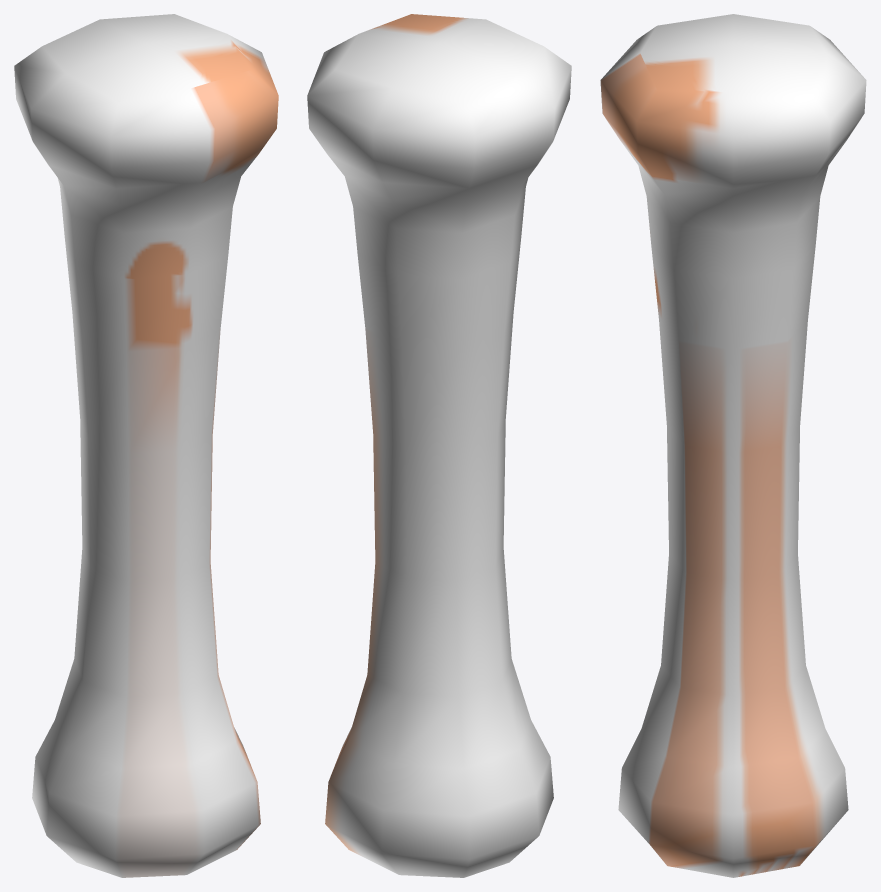
Rendered from Bone.glb.
3 views of the same model, side by side, from view 1: azimuth 30°, elevation 25°; view 2: azimuth 150°, elevation 25°; view 3: azimuth 270°, elevation 25° (orthographic).
Visible parts, largest first — view 1: Cube.001; view 2: Cube.001; view 3: Cube.001.
Boxes of the visible parts, x1,y1,x2,y2 form: Cube.001: (14,14,278,877); Cube.001: (307,14,571,877); Cube.001: (600,14,866,877).
Bounding box in the file's own units: 1.08 × 3.64 × 1.08.
Materials: 1 (1 with a texture image).
